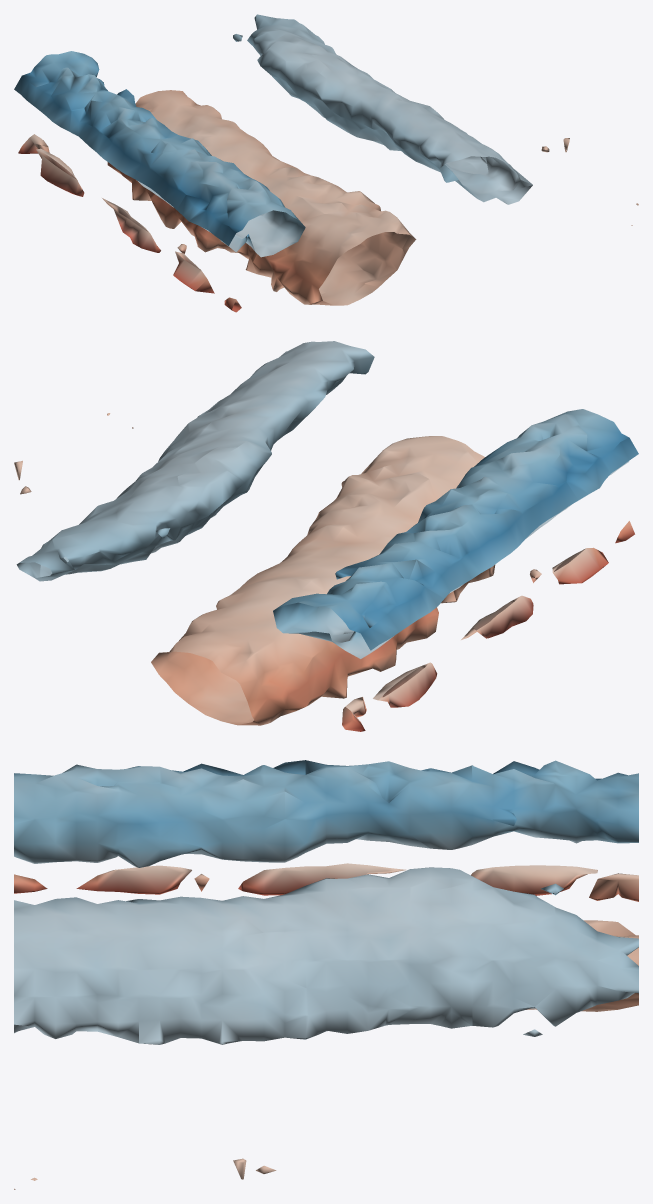
The picture shows the model from 3 angles, top to bottom: view 1: azimuth 30°, elevation 25°; view 2: azimuth 150°, elevation 25°; view 3: azimuth 270°, elevation 25°; orthographic projection. The views are drawn at different scales.
Bounding box in the file's own units: 2.86 × 0.8726 × 2.5.
